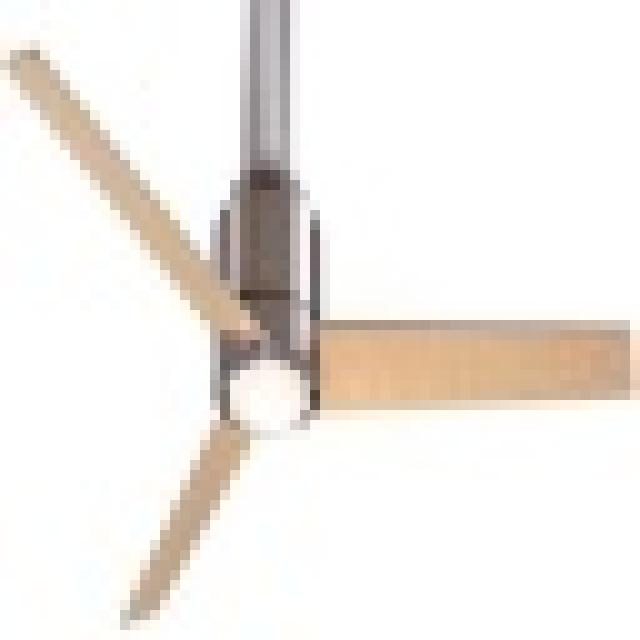Bulb: (19, 44, 634, 593)
